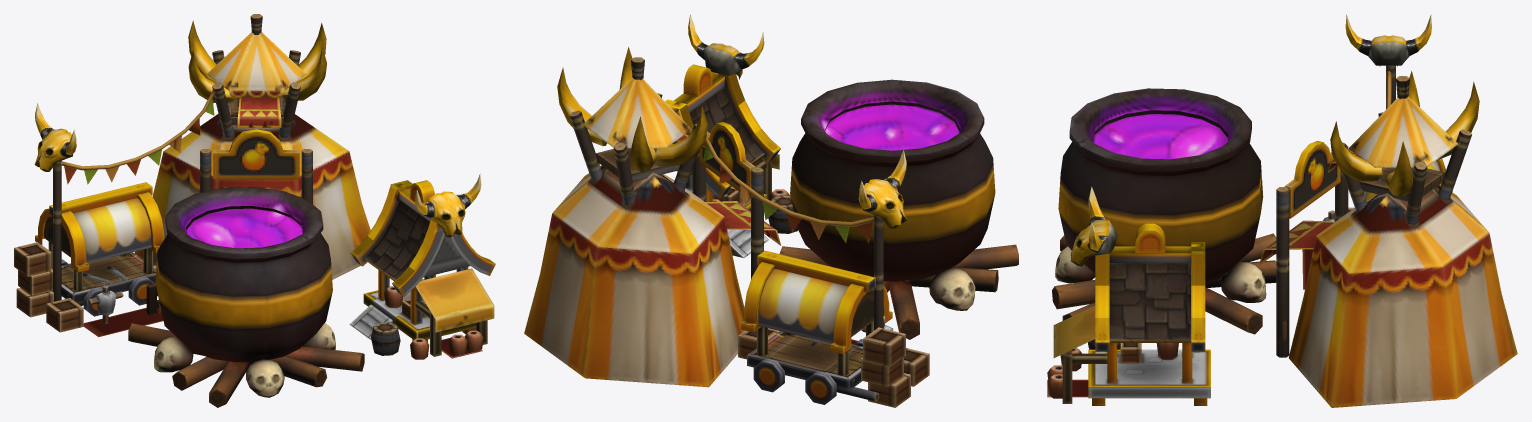
Rendered from C_Laboratory_LV5.fbx.
3 renders of one model, left to right at view 1: azimuth 30°, elevation 25°; view 2: azimuth 150°, elevation 25°; view 3: azimuth 270°, elevation 25°, orthographic. The views are drawn at different scales.
Visible parts, largest first — view 1: Laboratory_LVL05_0_mesh; view 2: Laboratory_LVL05_0_mesh; view 3: Laboratory_LVL05_0_mesh.
Boxes of the visible parts, x1,y1,x2,y2 form: Laboratory_LVL05_0_mesh: (14,14,495,407); Laboratory_LVL05_0_mesh: (524,14,1018,407); Laboratory_LVL05_0_mesh: (1047,14,1517,407).
Bounding box in the file's own units: 110 × 74.86 × 114.
